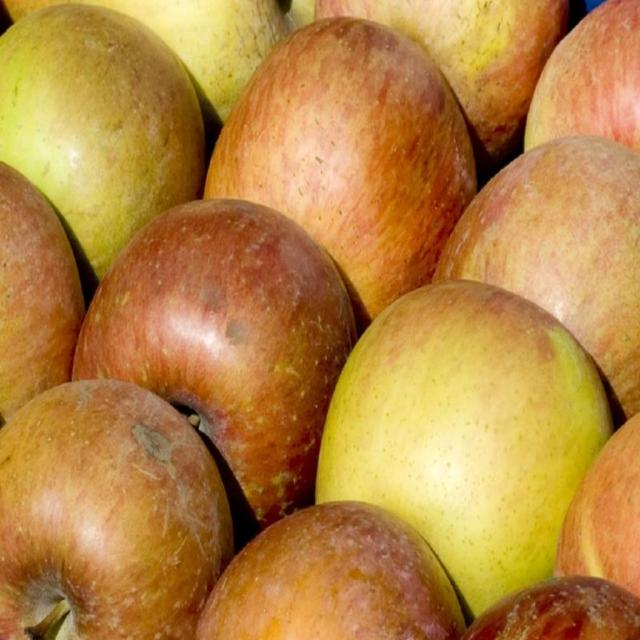Healty Apple: (0, 0, 639, 639), (316, 297, 614, 622)
